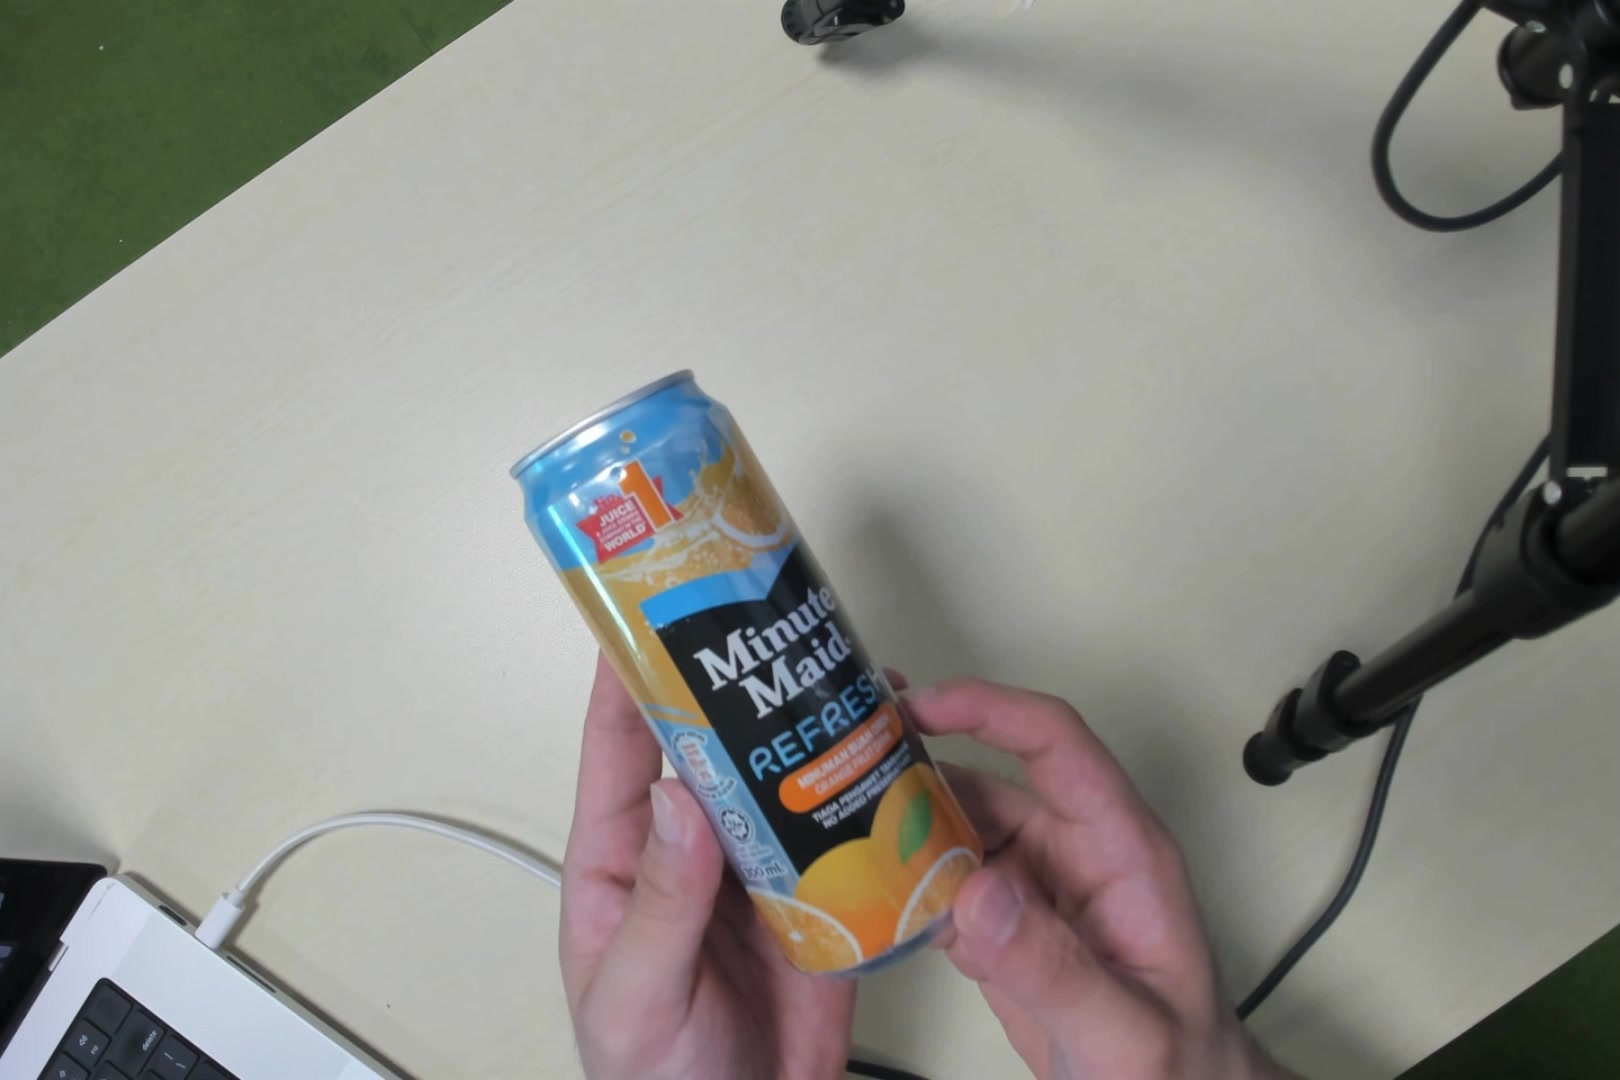SoftDrinks_200-299g_Halal_Healthy: (547, 344, 984, 985)
